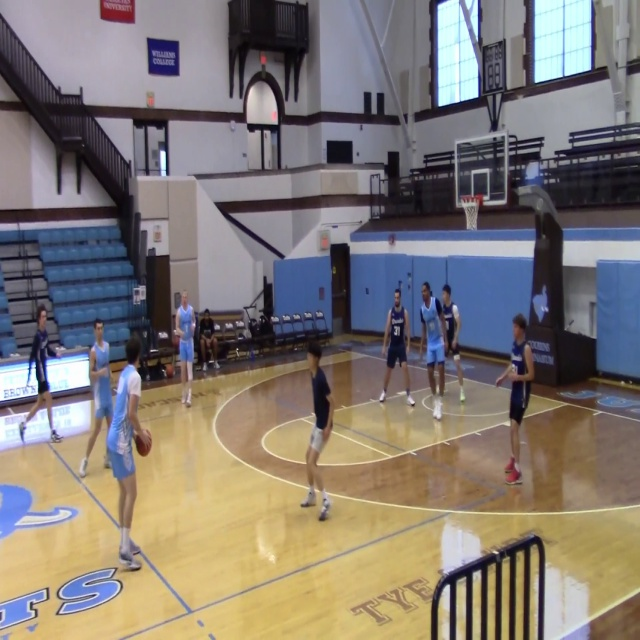Basketball: (134, 429, 152, 456)
